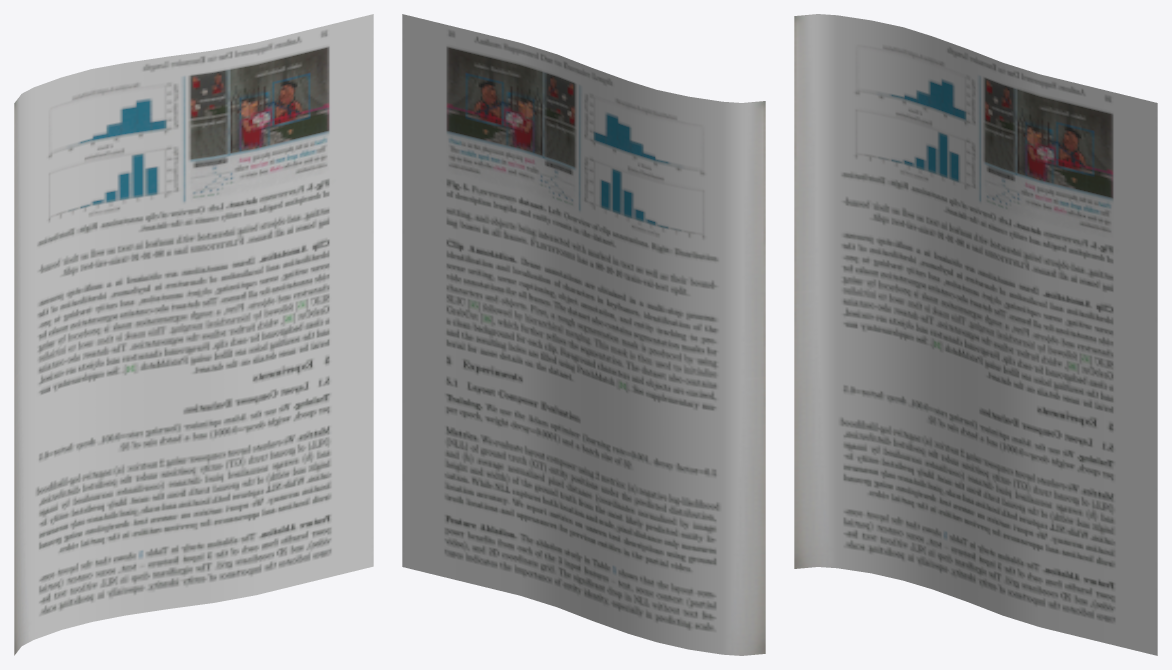
Rendered from MeshRobothorBookFront_6_1_GeomSubset_2.obj.
3 views of the same model, side by side, from view 1: azimuth 30°, elevation 25°; view 2: azimuth 150°, elevation 25°; view 3: azimuth 330°, elevation 25° (orthographic).
Visible parts, largest first — view 1: MeshRobothorBookFront_6_1_GeomSubset_2; view 2: MeshRobothorBookFront_6_1_GeomSubset_2; view 3: MeshRobothorBookFront_6_1_GeomSubset_2.
Boxes of the visible parts, x1,y1,x2,y2 form: MeshRobothorBookFront_6_1_GeomSubset_2: (14, 14, 373, 655); MeshRobothorBookFront_6_1_GeomSubset_2: (402, 14, 765, 655); MeshRobothorBookFront_6_1_GeomSubset_2: (794, 14, 1157, 655).
Size of the model in its own units: 0.1611 by 0.2355 by 0.0122.
